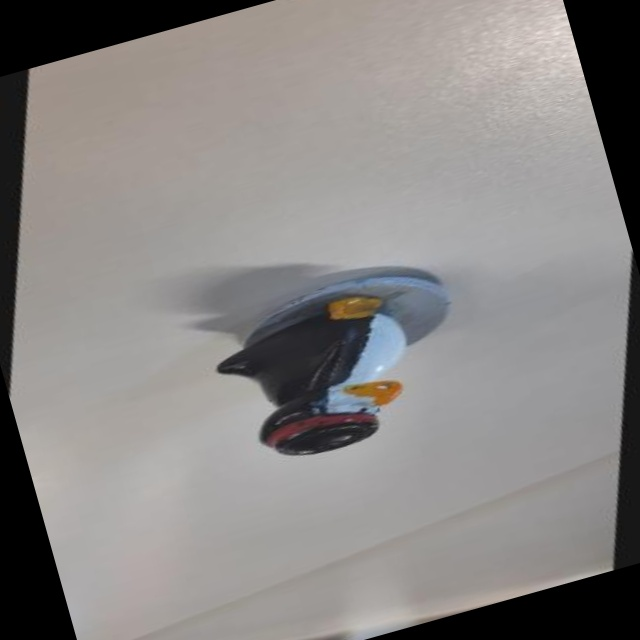Penguin: (135, 222, 526, 525)
